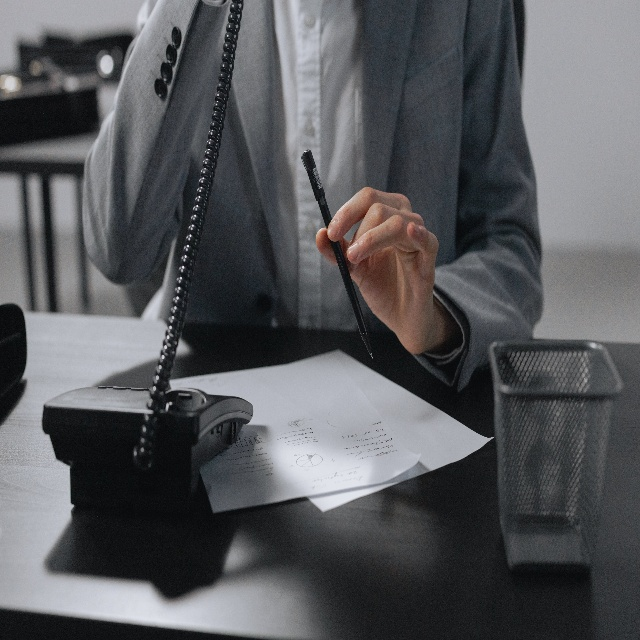Sin_guantes: (315, 187, 439, 356)
